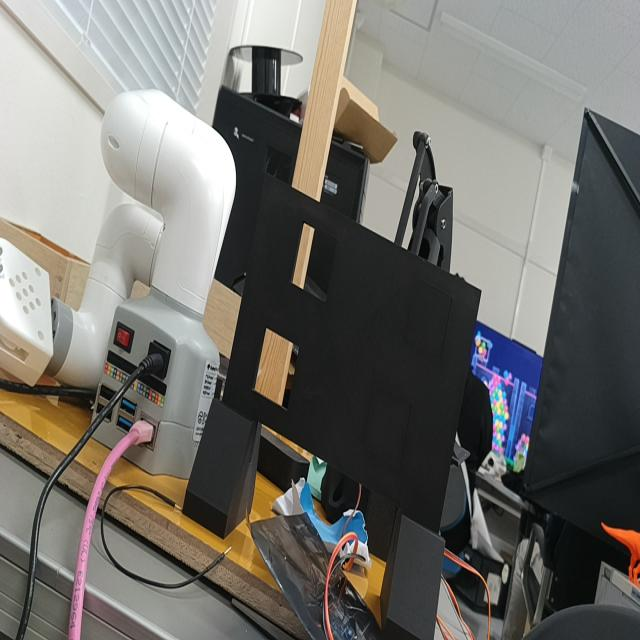Obstacle: (253, 326, 303, 408), (293, 223, 337, 300)
Wall: (224, 175, 482, 533)
